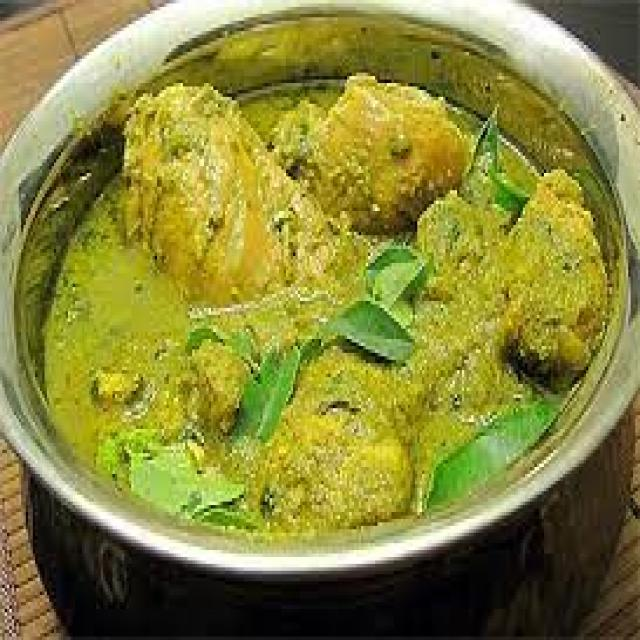Frango: (26, 69, 628, 519)
